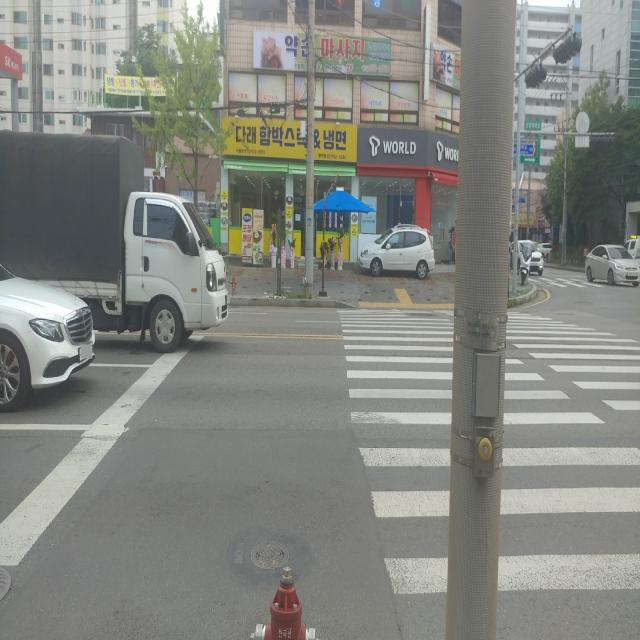횡단보도: (337, 304, 640, 596)
